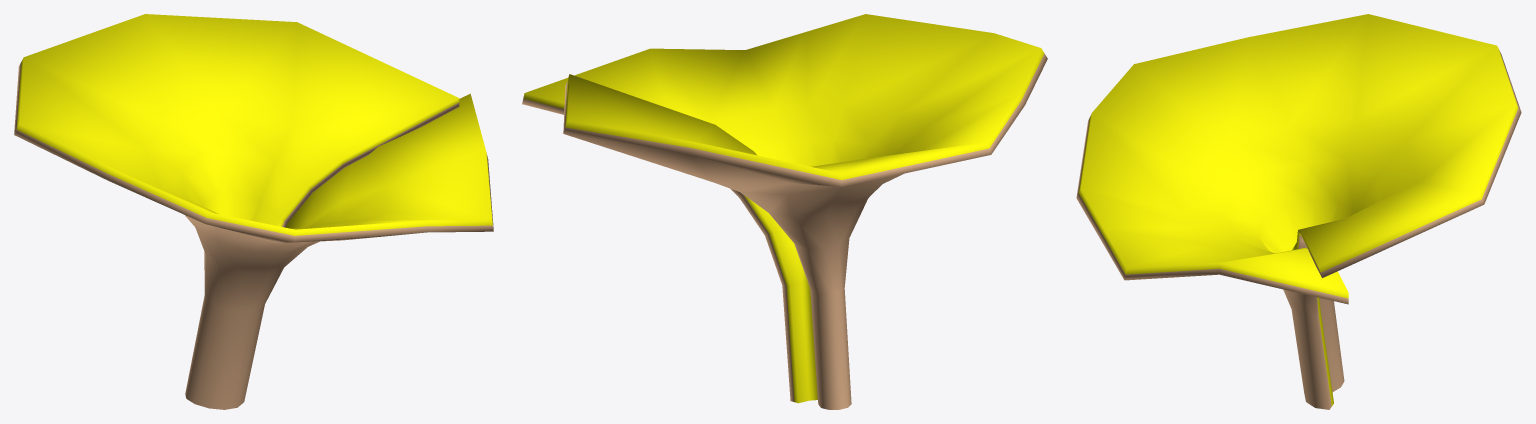
File: decoMushroom_single.fbx
3 renders of one model, left to right at view 1: azimuth 30°, elevation 25°; view 2: azimuth 150°, elevation 25°; view 3: azimuth 270°, elevation 25°, orthographic. The views are drawn at different scales.
Parts seen in each view (by area): view 1: deco_mushroom_single; view 2: deco_mushroom_single; view 3: deco_mushroom_single.
Part boxes in pixels (x1=…): deco_mushroom_single: x1=14, y1=14, x2=493, y2=409; deco_mushroom_single: x1=522, y1=14, x2=1047, y2=409; deco_mushroom_single: x1=1076, y1=14, x2=1521, y2=409.
Bounding box in the file's own units: 126 × 111 × 83.84.
